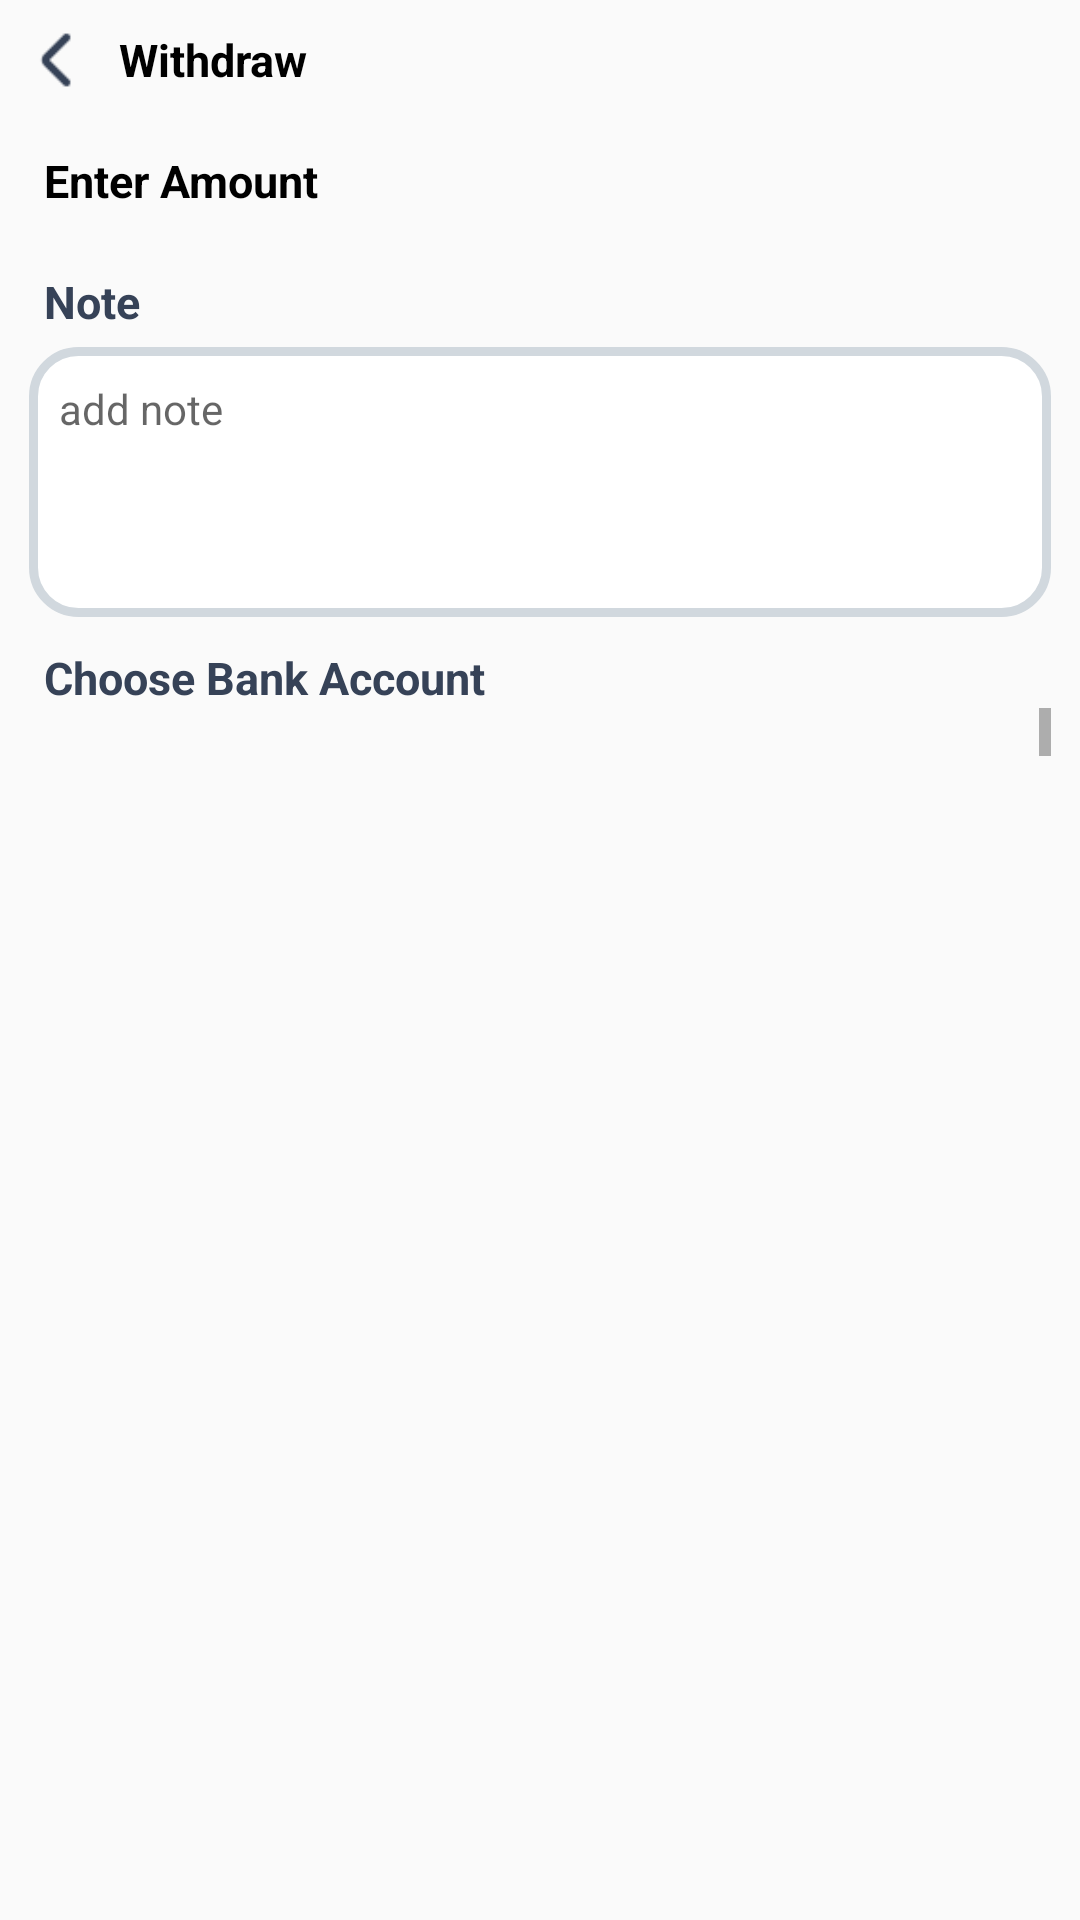

Screen size 1080w x 1920h. Icon name, then its center in pixels as [x,y]:
backarrow: [56,60]
